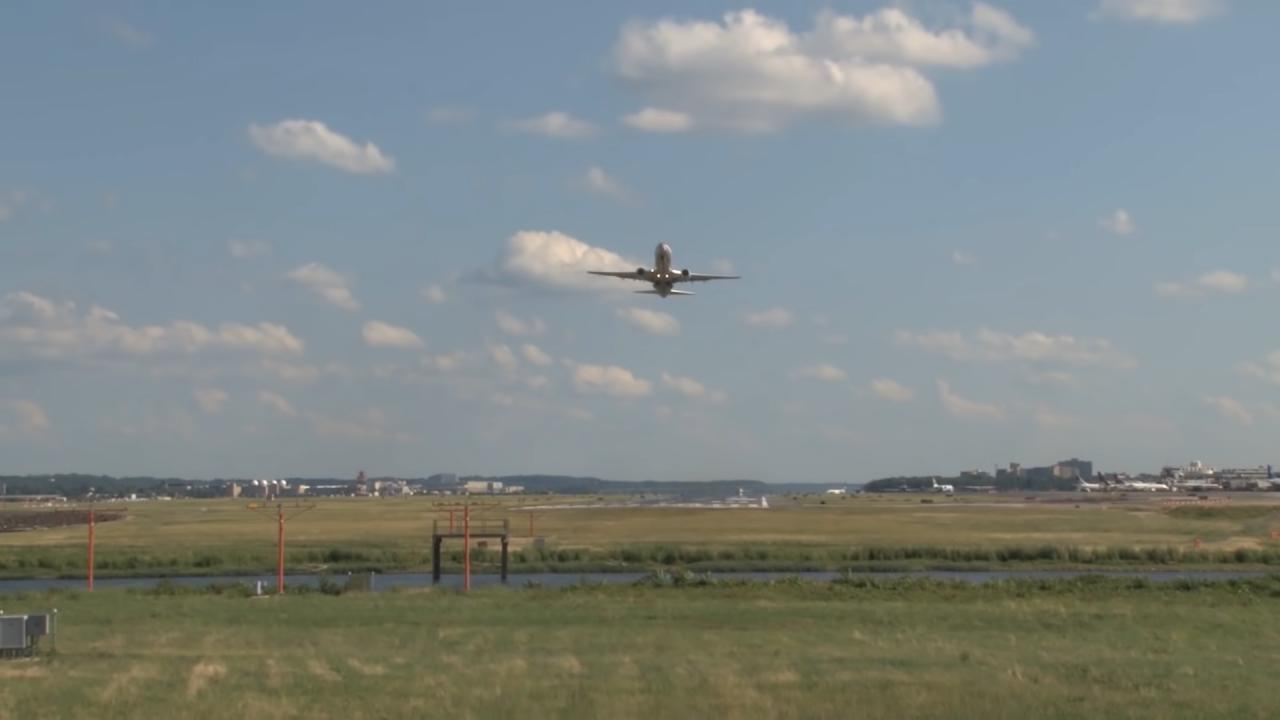Airplane: (577, 228, 751, 314)
